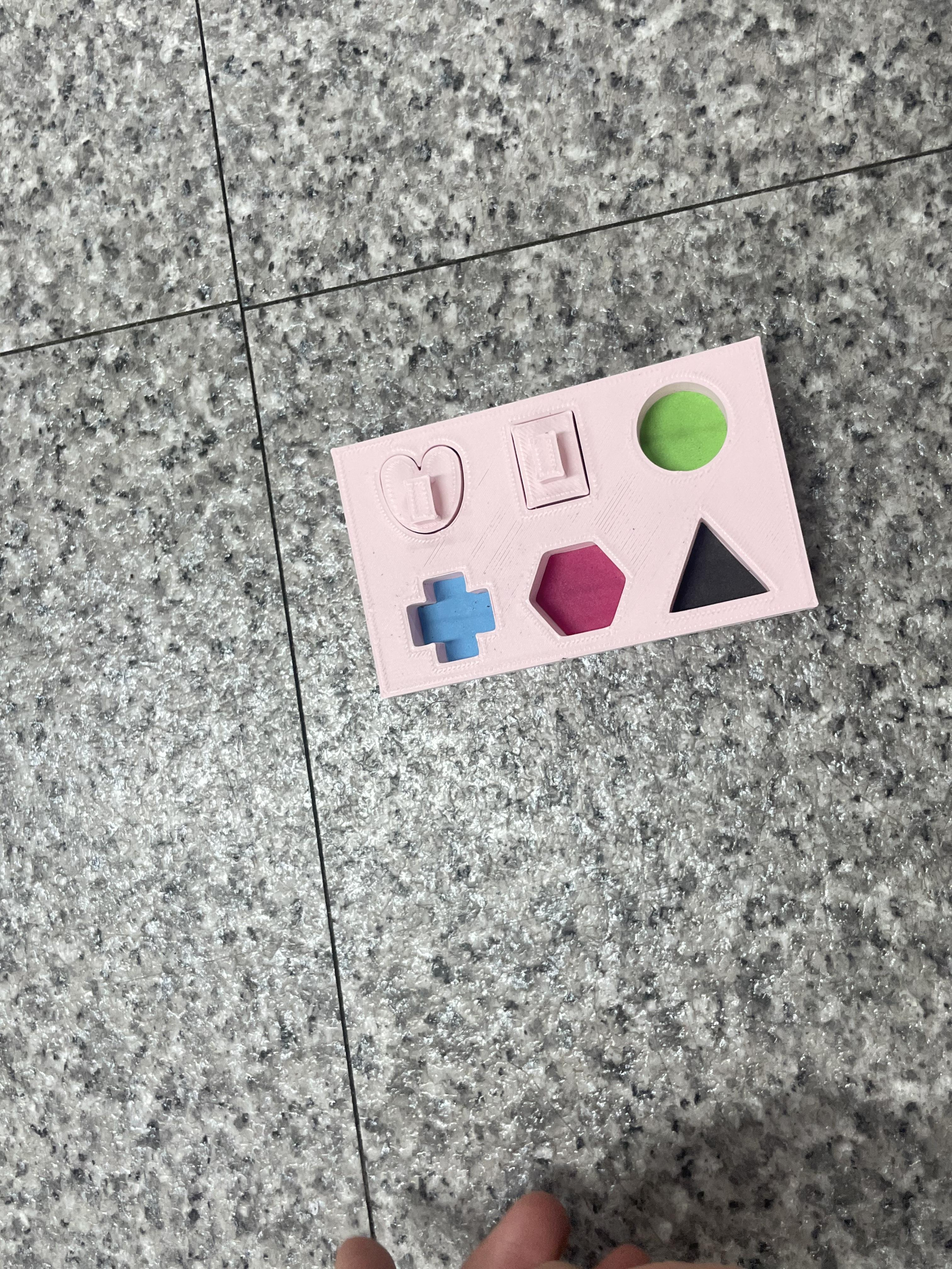unsolved: (327, 322, 838, 709)
